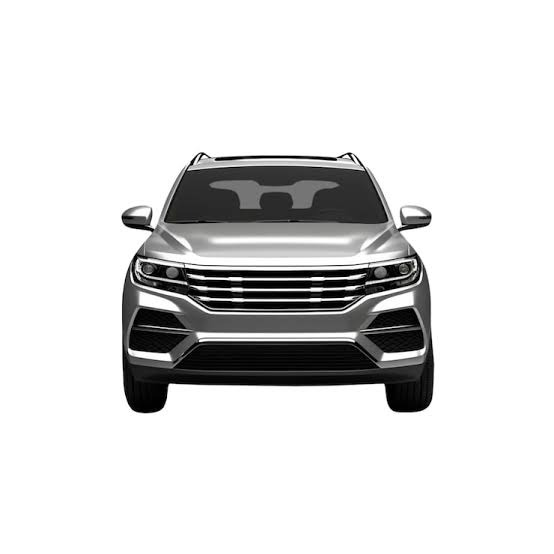car: (116, 148, 431, 422)
